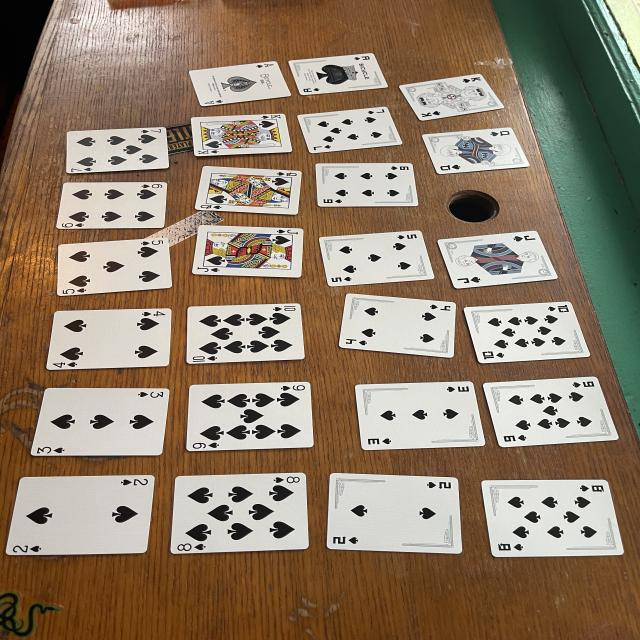10 of spades: (463, 301, 590, 364), (187, 304, 305, 364)
2 of spades: (5, 475, 155, 555), (327, 474, 462, 554)
3 of spades: (30, 388, 170, 456), (355, 381, 485, 450)
4 of spades: (47, 309, 172, 370), (338, 294, 457, 358)
5 of spades: (57, 238, 172, 296), (318, 230, 433, 286)
6 of spades: (57, 182, 167, 229), (315, 164, 418, 208)
7 of spades: (298, 108, 402, 154), (67, 128, 168, 174)
8 of spades: (170, 472, 308, 554), (482, 480, 623, 558)
9 of spades: (483, 376, 618, 448), (187, 382, 313, 451)
Ace of spades: (190, 61, 290, 106), (288, 54, 387, 95)
Jack of spades: (438, 231, 558, 289), (192, 225, 303, 278)
King of spades: (400, 75, 503, 120), (192, 114, 292, 156)
Queen of spades: (195, 166, 302, 215), (422, 128, 528, 174)
